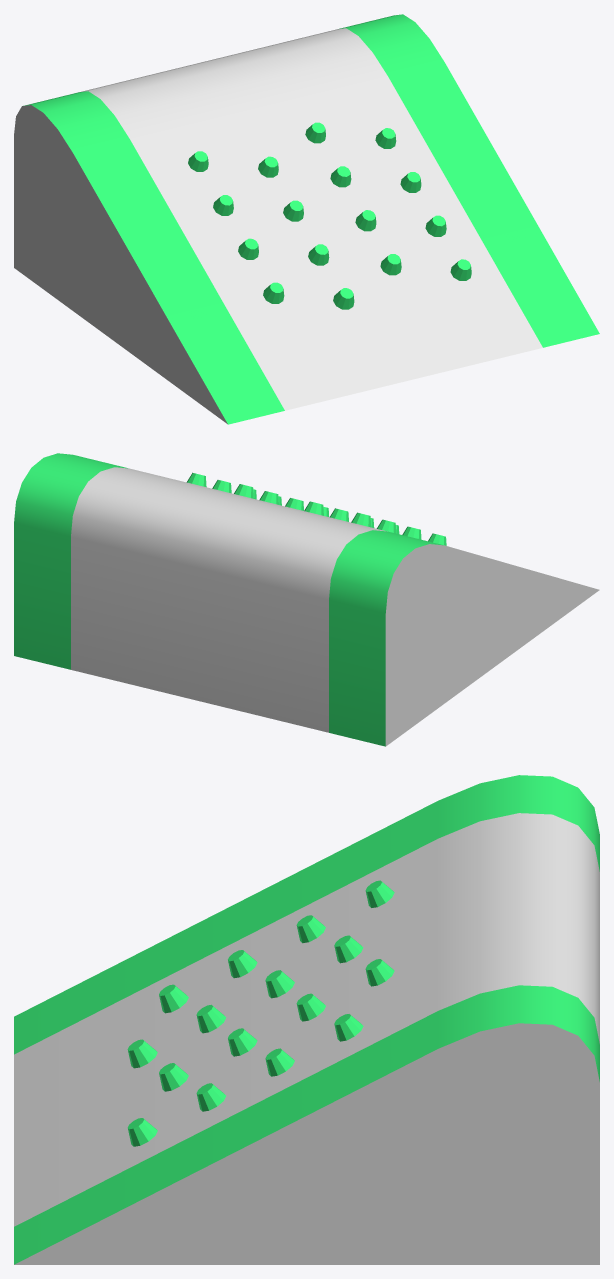
The model's file is Springboard Green Spike.fbx.
3 views of the same model, one above another, from view 1: azimuth 30°, elevation 25°; view 2: azimuth 150°, elevation 25°; view 3: azimuth 270°, elevation 25° (orthographic). The views are drawn at different scales.
Parts seen in each view (by area): view 1: Springboard Green Spike; view 2: Springboard Green Spike; view 3: Springboard Green Spike.
Part boxes in pixels (bbox=[...]): Springboard Green Spike: bbox=[14, 14, 599, 424]; Springboard Green Spike: bbox=[14, 453, 599, 746]; Springboard Green Spike: bbox=[14, 775, 599, 1264].
Size of the model in its own units: 160 by 72.42 by 159.
